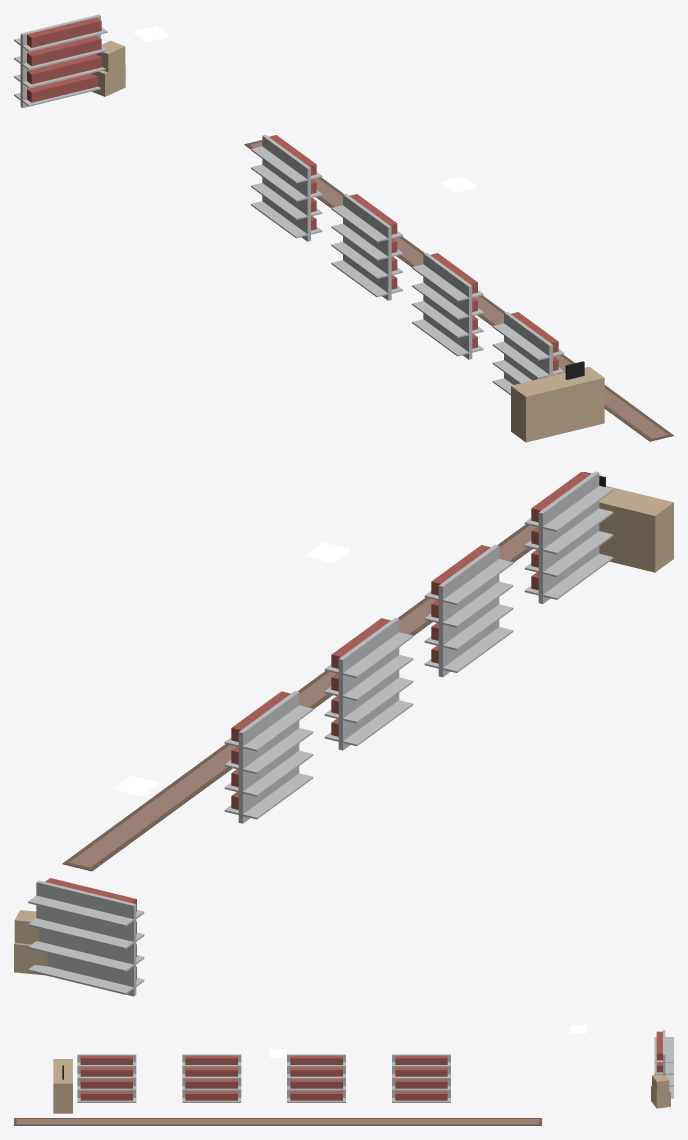
File: fine-s0.glb
3 views of the same model, one above another, from view 1: azimuth 30°, elevation 25°; view 2: azimuth 150°, elevation 25°; view 3: azimuth 270°, elevation 25° (orthographic). The views are drawn at different scales.
Visible parts, largest first — view 1: shelving.000, shop-counter.000, shelf.002, shelf.000, shelf.001, shelf.003, soft-s0, cardboard-box.000; view 2: shelving.000, shelf.000, shelf.001, shelf.003, shelf.002, soft-s0, shop-counter.000, cardboard-box.000; view 3: soft-s0, shelf.002, shelf.003, shelf.000, shelf.001, shop-counter.000, shelving.000, cardboard-box.000.
Part boxes in pixels (box(x1,y1,x2,y2)): shelving.000: box(14, 14, 107, 107); shop-counter.000: box(511, 361, 604, 442); shelf.002: box(412, 252, 483, 359); shelf.000: box(251, 134, 322, 241); shelf.001: box(331, 193, 402, 300); shelf.003: box(492, 312, 564, 395); soft-s0: box(244, 140, 673, 441); cardboard-box.000: box(91, 40, 125, 96); shelving.000: box(28, 878, 144, 996); shelf.000: box(224, 691, 313, 823); shelf.001: box(324, 618, 413, 750); shelf.003: box(524, 471, 613, 603); shelf.002: box(424, 544, 513, 677); soft-s0: box(62, 524, 536, 871); shop-counter.000: box(584, 472, 673, 572); cardboard-box.000: box(14, 910, 47, 975); soft-s0: box(14, 1118, 541, 1125); shelf.002: box(182, 1054, 241, 1102); shelf.003: box(77, 1054, 136, 1102); shelf.000: box(392, 1054, 450, 1102); shelf.001: box(287, 1054, 345, 1102); shop-counter.000: box(53, 1059, 72, 1113); shelving.000: box(654, 1030, 673, 1098); cardboard-box.000: box(651, 1074, 670, 1108).
Bounding box in the file's own units: 3.5 × 2.33 × 20.13.
